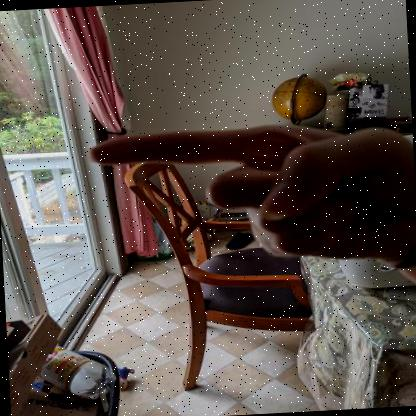G: (89, 125, 413, 280)
